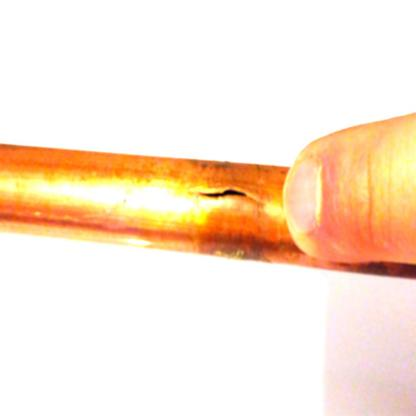burst: (187, 172, 254, 223)
